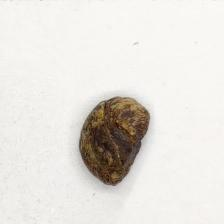NG: (80, 96, 150, 186)
